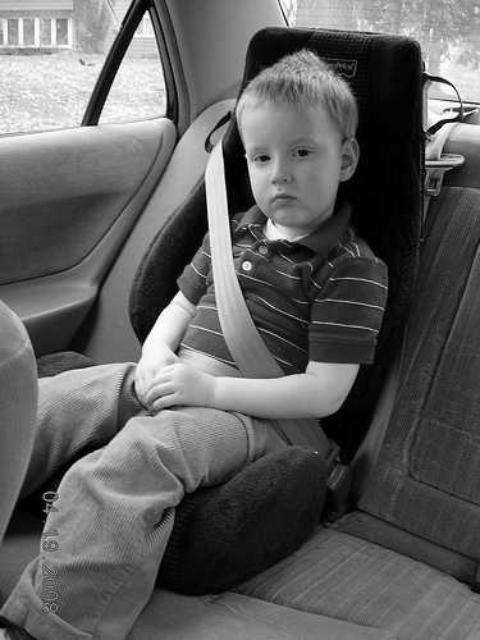SafeDriving: (286, 138, 318, 164), (247, 145, 276, 168)
Seatbelt: (204, 137, 349, 477)
